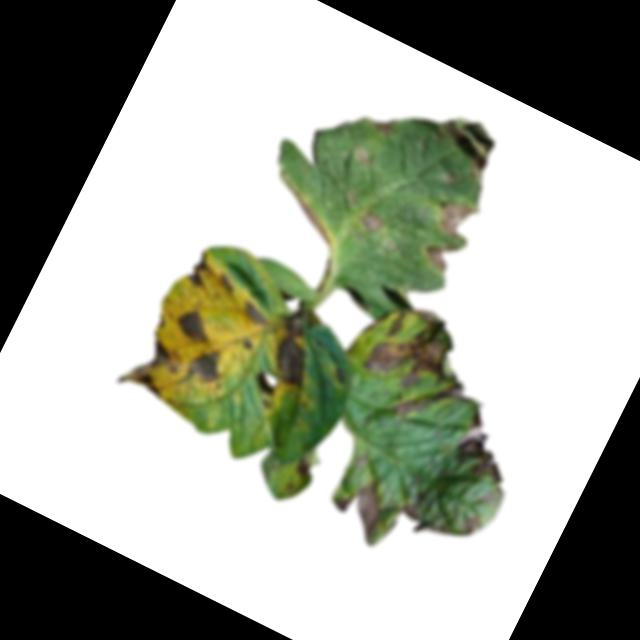Early_blight: (345, 291, 500, 441), (415, 98, 508, 185), (255, 296, 336, 392), (113, 327, 193, 409), (449, 406, 529, 488), (268, 180, 350, 248), (324, 468, 395, 542), (432, 192, 481, 241), (184, 341, 232, 390), (170, 301, 218, 347), (419, 230, 464, 275), (183, 247, 218, 289), (235, 295, 275, 330), (355, 204, 388, 235), (369, 109, 399, 138), (396, 497, 426, 524), (460, 508, 487, 537), (213, 268, 241, 293), (291, 456, 315, 481), (328, 361, 352, 384), (242, 336, 255, 350)
